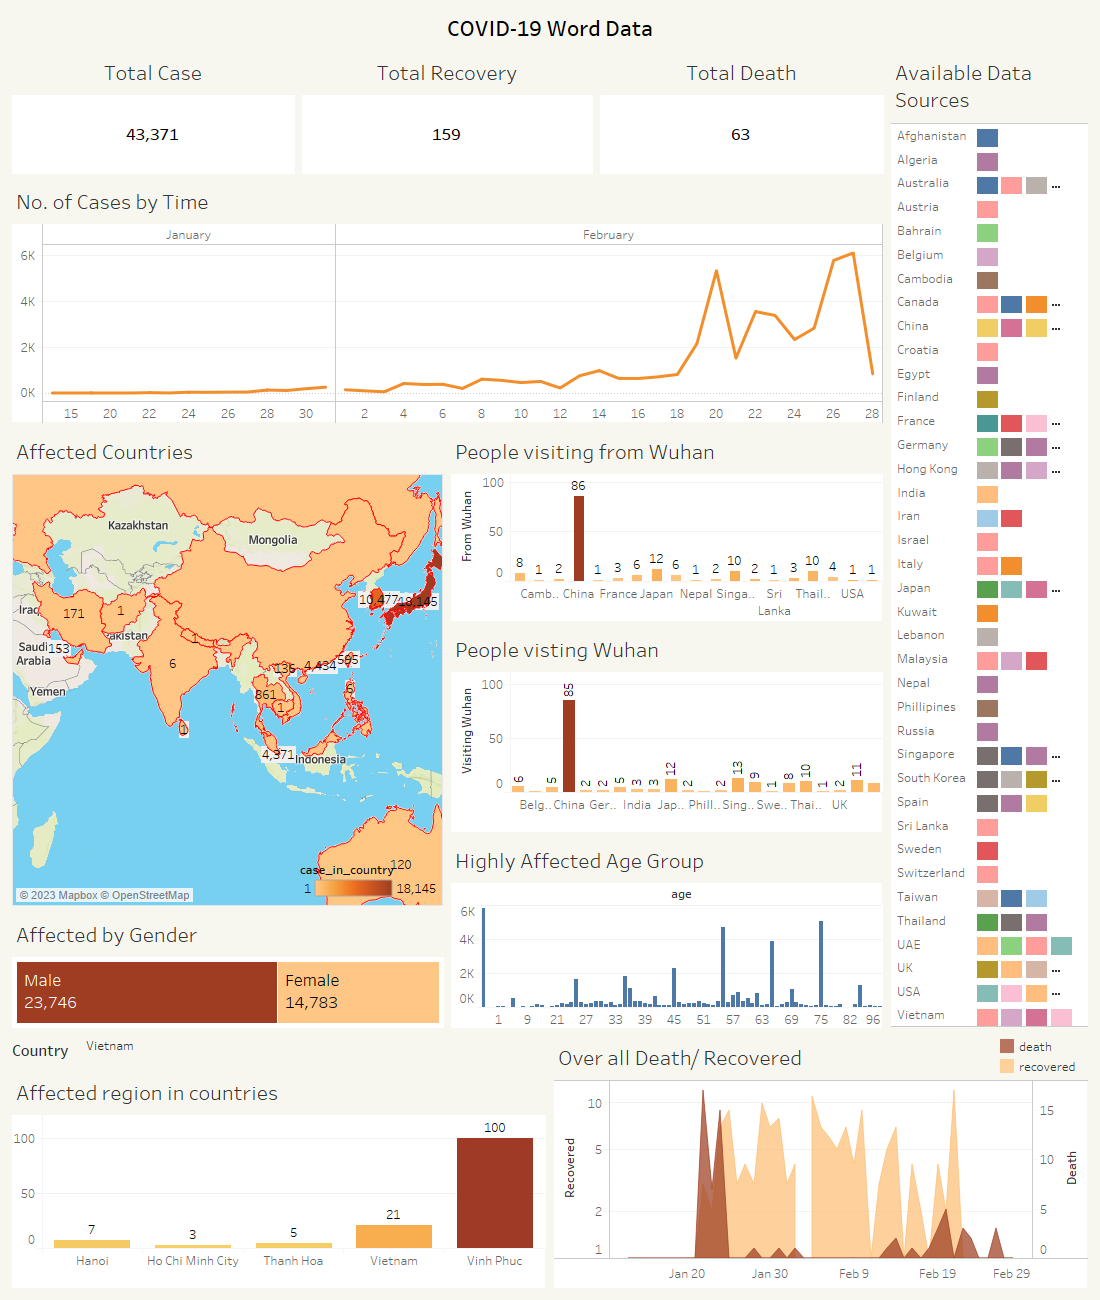

The page's visual inventory and layout, read from the dashboard file:
{"tool":"tableau","page":{"name":"COVID-19 Word Data","canvas":[1100,1300],"ordinal":0},"visuals":[{"type":"text","box":[8,8,1084,40]},{"type":"worksheet","title":"Total Case","mark":"Automatic","box":[8,48,290.3,129.2]},{"type":"worksheet","title":"Total Recovery","mark":"Automatic","box":[298.3,48,297.6,129.2]},{"type":"worksheet","title":"Total Death","mark":"Automatic","box":[595.8,48,291.1,129.2]},{"type":"worksheet","title":"Available Data Sources","mark":"Automatic","rows":["country"],"box":[887,48,205,984.5]},{"type":"worksheet","title":"No. of Cases by Time","mark":"Automatic","rows":["case_in_country"],"cols":["reporting date","reporting date"],"box":[8,177.2,879,250.1]},{"type":"worksheet","title":"Affected Countries","mark":"Automatic","box":[8,427.3,439.5,483.1]},{"type":"worksheet","title":"People visiting from Wuhan","mark":"Automatic","rows":["from Wuhan"],"cols":["country"],"box":[447.5,427.3,439.5,197.8]},{"type":"worksheet","title":"People visting Wuhan","mark":"Automatic","rows":["visiting Wuhan"],"cols":["country"],"box":[447.5,625.1,439.5,211.2]},{"type":"worksheet","title":"Highly Affected Age Group","mark":"Automatic","rows":["case_in_country"],"cols":["age"],"box":[447.5,836.3,439.5,196.2]},{"type":"legend","title":"Affected Countries","param":"[federated.0rjv5qw0f7o7zc182zq970a20vdl].[sum:case_in_country:qk]","box":[300,857,141,49]},{"type":"worksheet","title":"Affected by Gender","mark":"Automatic","box":[8,910.4,439.5,122.1]},{"type":"filter","title":"Affected region in countries","param":"[federated.0rjv5qw0f7o7zc182zq970a20vdl].[none:country:nk]","box":[8,1032.5,542,35.7]},{"type":"worksheet","title":"Over all Death/ Recovered","mark":"Area","rows":["recovered","death"],"cols":["reporting date"],"box":[550,1032.5,542,259.5]},{"type":"legend","title":"Over all Death/ Recovered","param":"[federated.0rjv5qw0f7o7zc182zq970a20vdl].[:Measure Names]","box":[997,1036,88,44]},{"type":"worksheet","title":"Affected region in countries","mark":"Automatic","rows":["case_in_country"],"cols":["location"],"box":[8,1068.2,542,223.8]}]}

Visuals, with their boxes in screenshot pixels (x1, y1, x2, y2), scaled from the page's 1100x1300 canvas onto the 1100x1300 screenshot:
text: bbox(8, 8, 1092, 48)
"Total Case" worksheet: bbox(8, 48, 298, 177)
"Total Recovery" worksheet: bbox(298, 48, 596, 177)
"Total Death" worksheet: bbox(596, 48, 887, 177)
"Available Data Sources" worksheet: bbox(887, 48, 1092, 1032)
"No. of Cases by Time" worksheet: bbox(8, 177, 887, 427)
"Affected Countries" worksheet: bbox(8, 427, 448, 910)
"People visiting from Wuhan" worksheet: bbox(448, 427, 887, 625)
"People visting Wuhan" worksheet: bbox(448, 625, 887, 836)
"Highly Affected Age Group" worksheet: bbox(448, 836, 887, 1032)
"Affected Countries" legend: bbox(300, 857, 441, 906)
"Affected by Gender" worksheet: bbox(8, 910, 448, 1032)
"Affected region in countries" filter: bbox(8, 1032, 550, 1068)
"Over all Death/ Recovered" worksheet (Area marks): bbox(550, 1032, 1092, 1292)
"Over all Death/ Recovered" legend: bbox(997, 1036, 1085, 1080)
"Affected region in countries" worksheet: bbox(8, 1068, 550, 1292)
